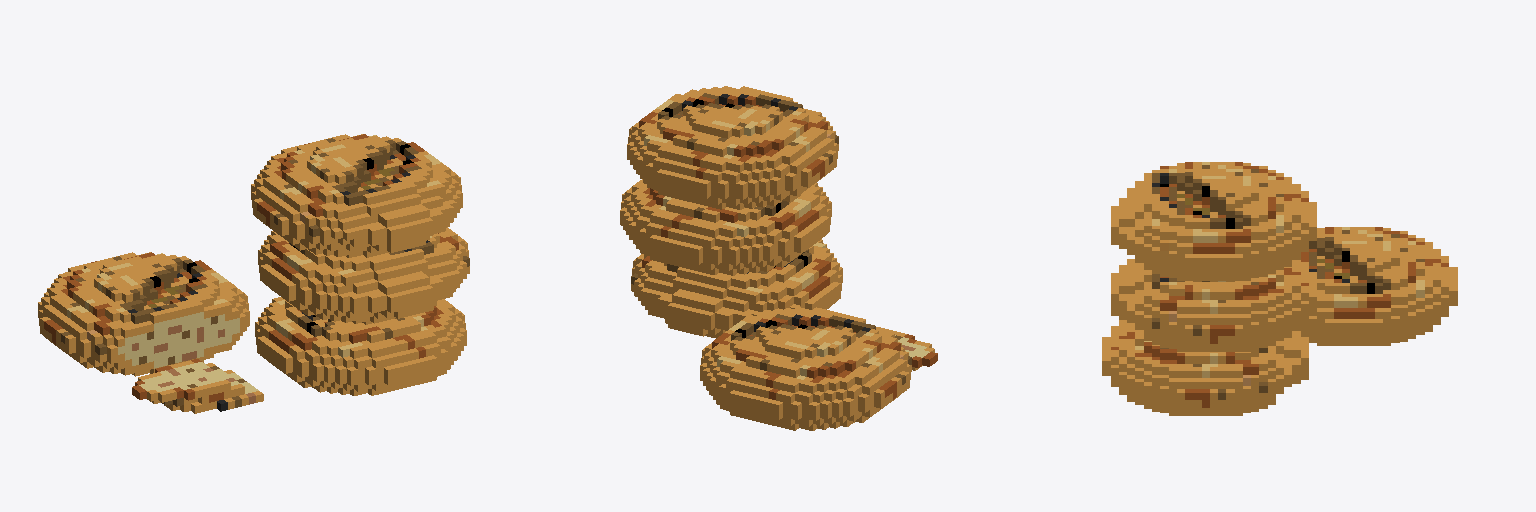
3 renders of one model, left to right at view 1: azimuth 30°, elevation 25°; view 2: azimuth 150°, elevation 25°; view 3: azimuth 270°, elevation 25°, orthographic.
Visible parts, largest first — view 1: object 1; view 2: object 1; view 3: object 1.
Boxes of the visible parts, <box> form: object 1: <box>38,134,469,413</box>; object 1: <box>620,86,937,430</box>; object 1: <box>1102,162,1457,415</box>.
Size of the model in its own units: 4.6 by 2.8 by 4.3.
Materials: 1 (1 with a texture image).